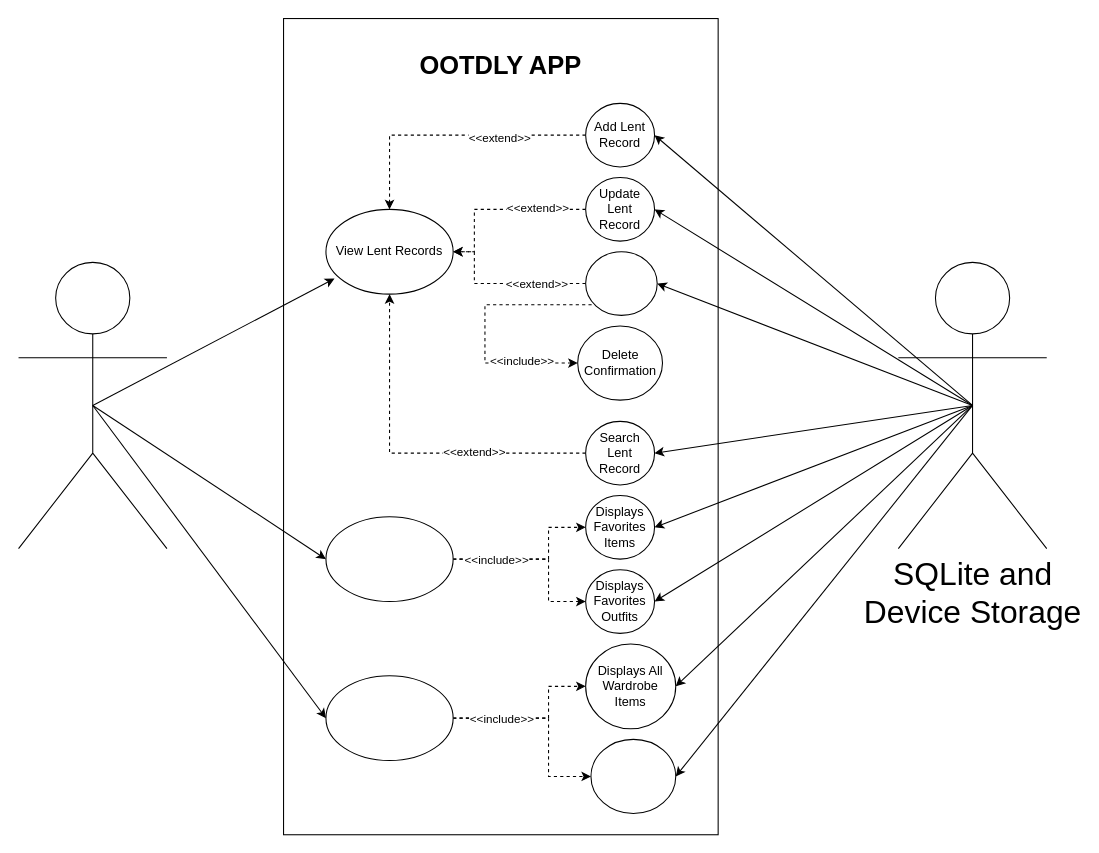
The diagram is 1099 pixels wide and 853 high, and some of its shapes have lost their labels. The centre of each missing label's shape, as x and y in pixels:
"Delete Lent Record" belongs at point (621, 283).
"Displays All Generated Outfits" belongs at point (633, 776).
"User" belongs at point (92, 405).
"View Favorites" belongs at point (389, 559).
"View Wardrobe Gallery" belongs at point (389, 718).
